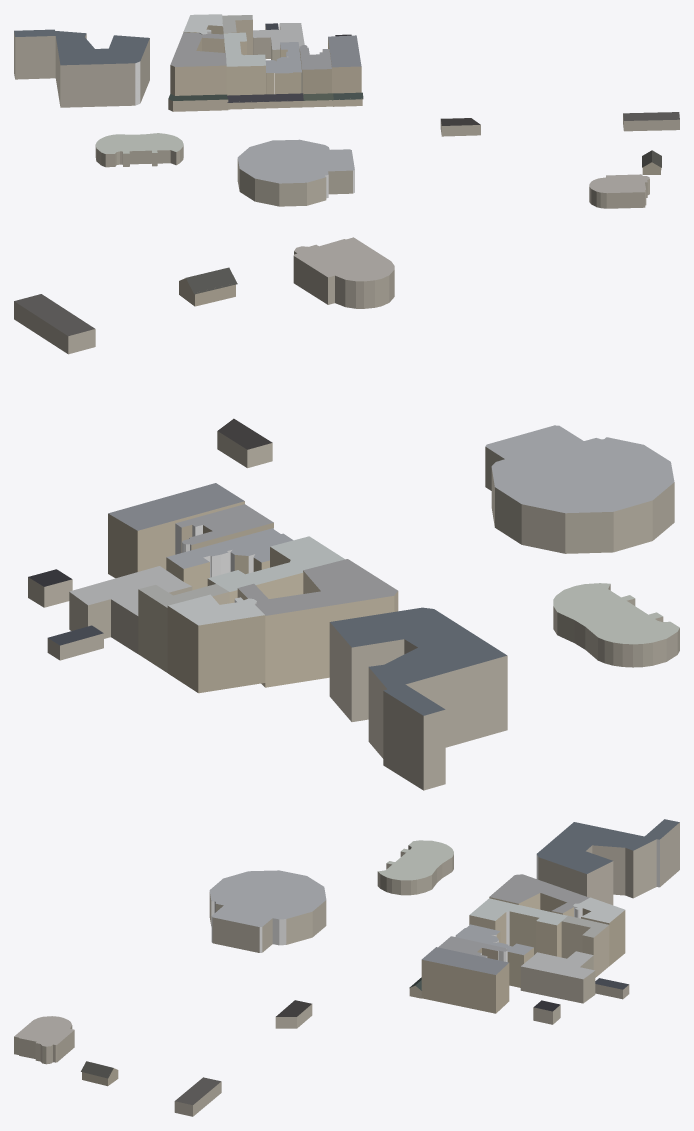
3 renders of one model, top to bottom at view 1: azimuth 30°, elevation 25°; view 2: azimuth 150°, elevation 25°; view 3: azimuth 270°, elevation 25°, orthographic. The views are drawn at different scales.
Visible parts, largest first — view 1: tuile; view 2: tuile; view 3: tuile.
Part boxes in pixels (box(x1,y1,x2,y2)): tuile: box(14, 14, 679, 208); tuile: box(14, 237, 679, 790); tuile: box(14, 819, 679, 1116).
Bounding box in the file's own units: 237 × 21.22 × 254.
